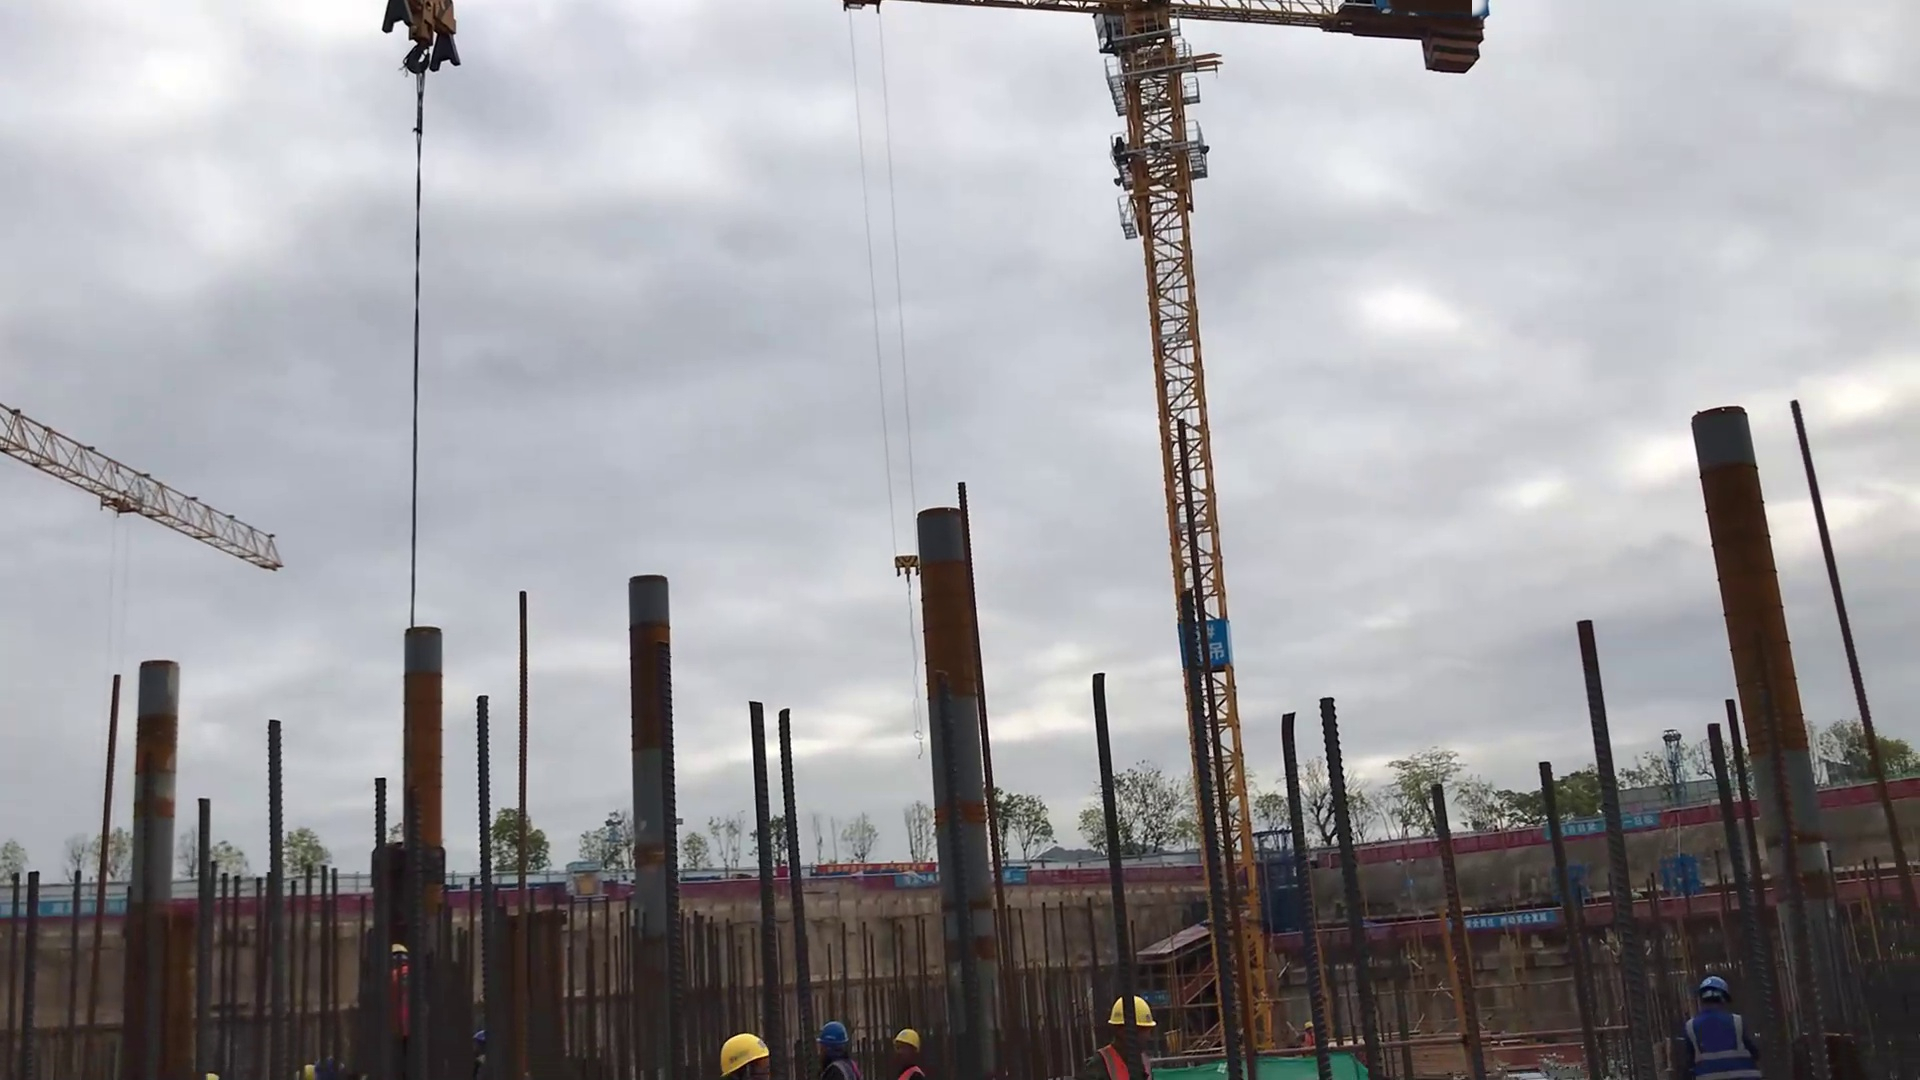helmet: (709, 1035, 766, 1077), (1105, 990, 1158, 1031), (888, 1025, 921, 1058), (1699, 972, 1735, 1000), (822, 1016, 848, 1047)
person: (1681, 971, 1758, 1080), (1074, 997, 1157, 1080), (882, 1021, 930, 1080), (713, 1034, 772, 1080), (813, 1016, 855, 1080)
vest: (1678, 1002, 1758, 1063)
